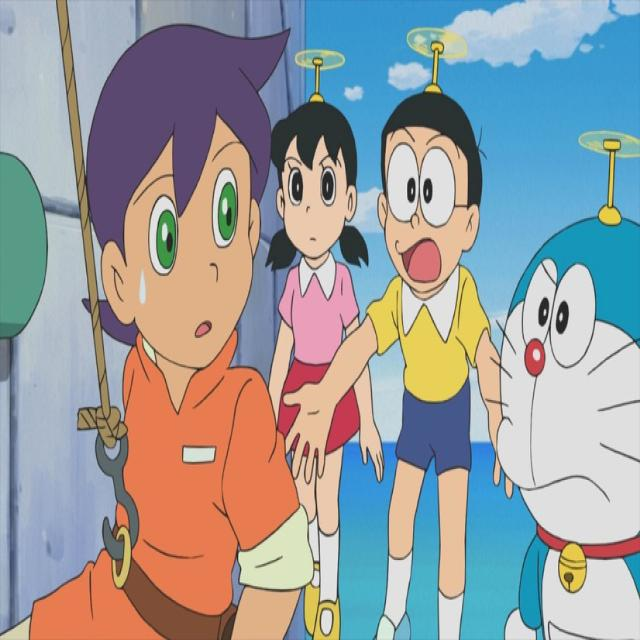doraemon: (480, 171, 639, 637)
nobita: (370, 76, 493, 334)
shizuka: (266, 87, 386, 303)
